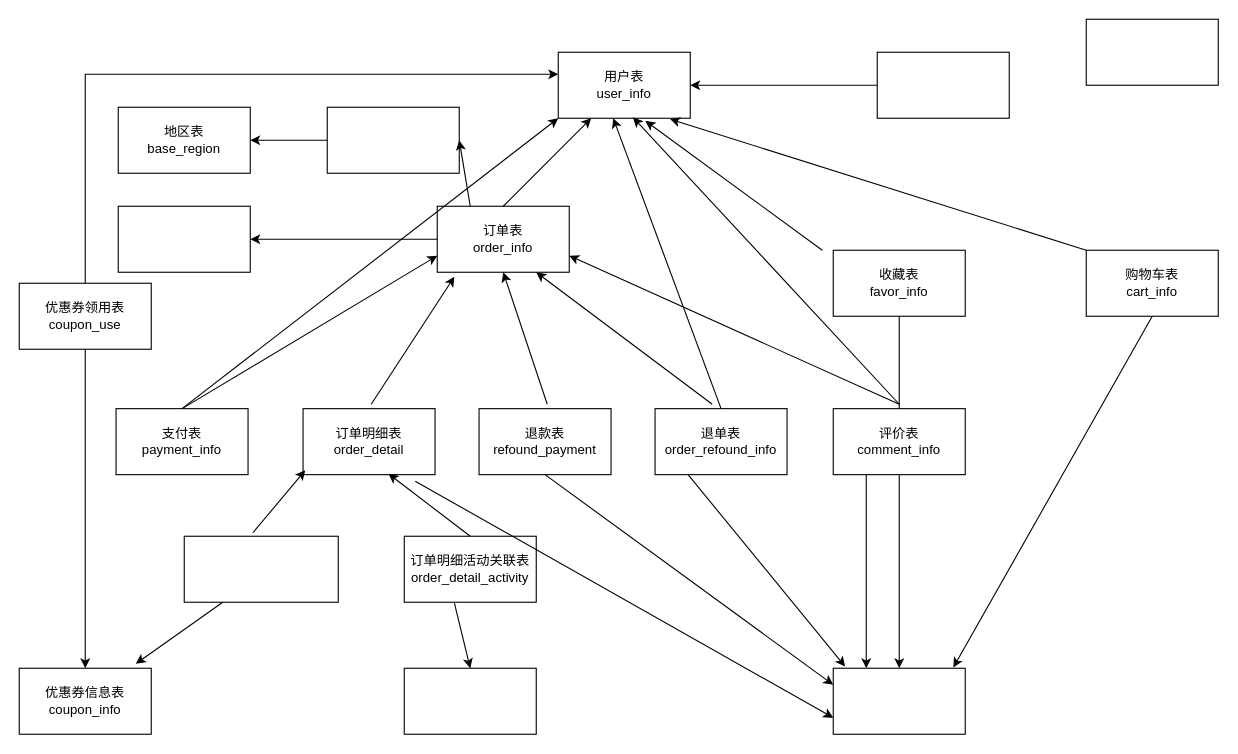
Image size: 1238x754. Some labels were removed from this diagram. The shapes that lost their labels are listed below. From the top down, each one's centre as x and y in pixels, then its label:
the point at 1151,51: 字典表 base_dic
the point at 942,84: 用户地址表 user_address
the point at 392,139: 省份表 base_province
the point at 183,238: 订单状态流水表 order_status_log
the point at 260,568: 订单明细优惠券关联表 order_detail_coupon
the point at 469,700: 活动规则表 activity_rule
the point at 898,700: SKU(商品)信息表 sku_info
